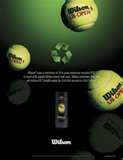tennis ball: (86, 68, 123, 106), (59, 1, 100, 33), (6, 44, 32, 71), (57, 102, 67, 113)
